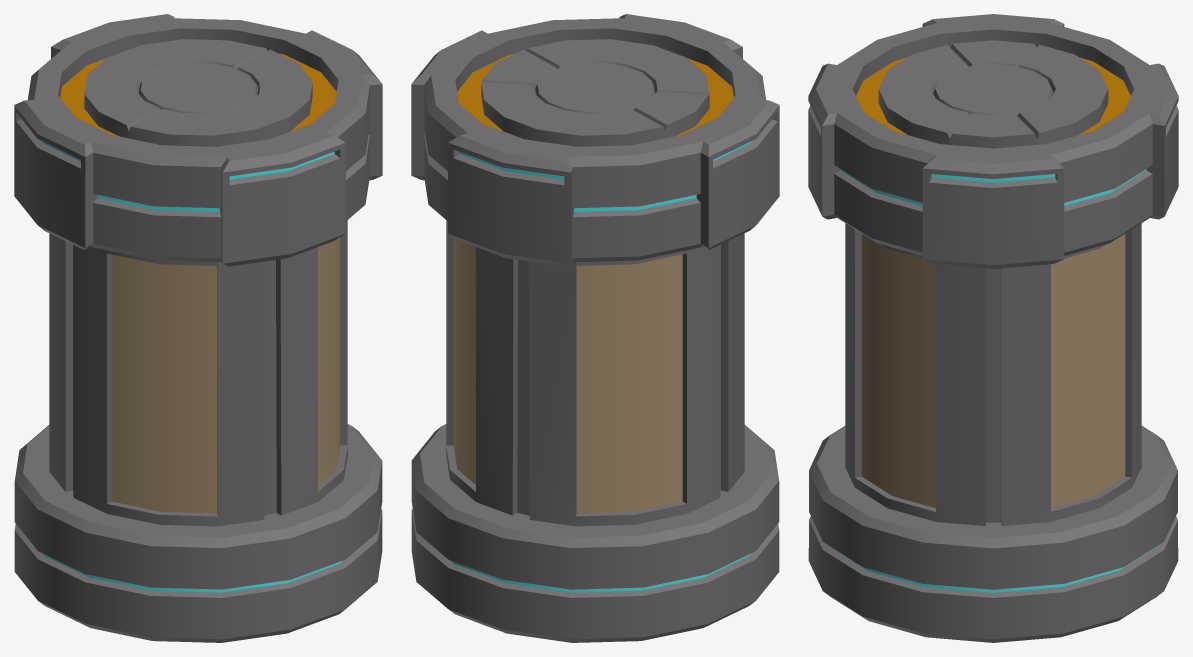
Rendered from SM_Props_Box_06.fbx.
3 views of the same model, side by side, from view 1: azimuth 30°, elevation 25°; view 2: azimuth 150°, elevation 25°; view 3: azimuth 270°, elevation 25° (orthographic).
Visible parts, largest first — view 1: SM_Props_Box_06; view 2: SM_Props_Box_06; view 3: SM_Props_Box_06.
Boxes of the visible parts, bbox=[...] form: SM_Props_Box_06: bbox=[14, 14, 382, 642]; SM_Props_Box_06: bbox=[411, 14, 779, 642]; SM_Props_Box_06: bbox=[808, 14, 1178, 642].
Bounding box in the file's own units: 0.4761 × 0.6801 × 0.4761.
